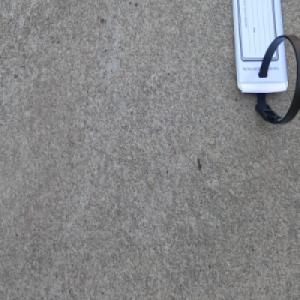LuggageTag: (231, 0, 300, 127)
